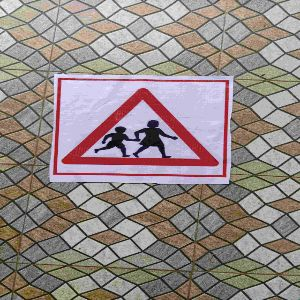schools: (56, 83, 227, 180)
